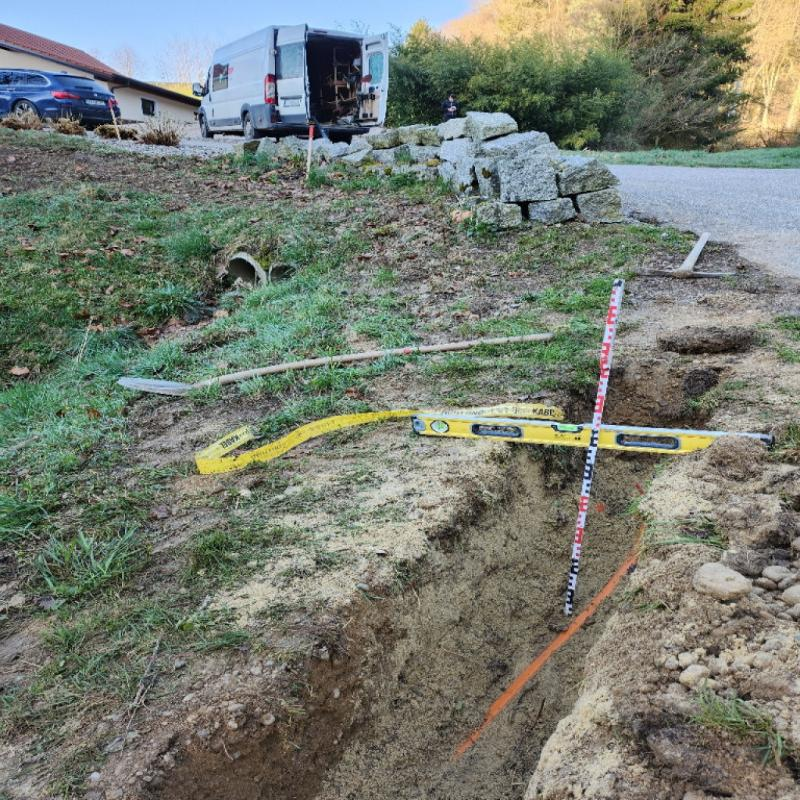Orang-Speednetrohrchen: (490, 561, 630, 719)
